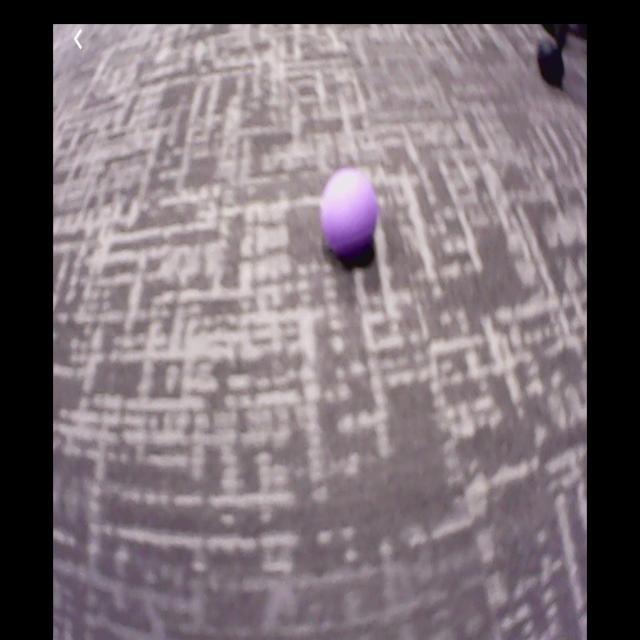ball: (324, 169, 378, 250)
